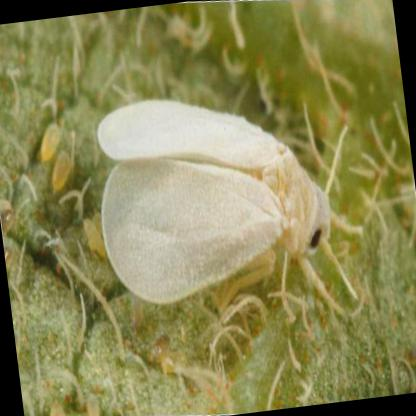whitefly: (95, 98, 331, 306)
